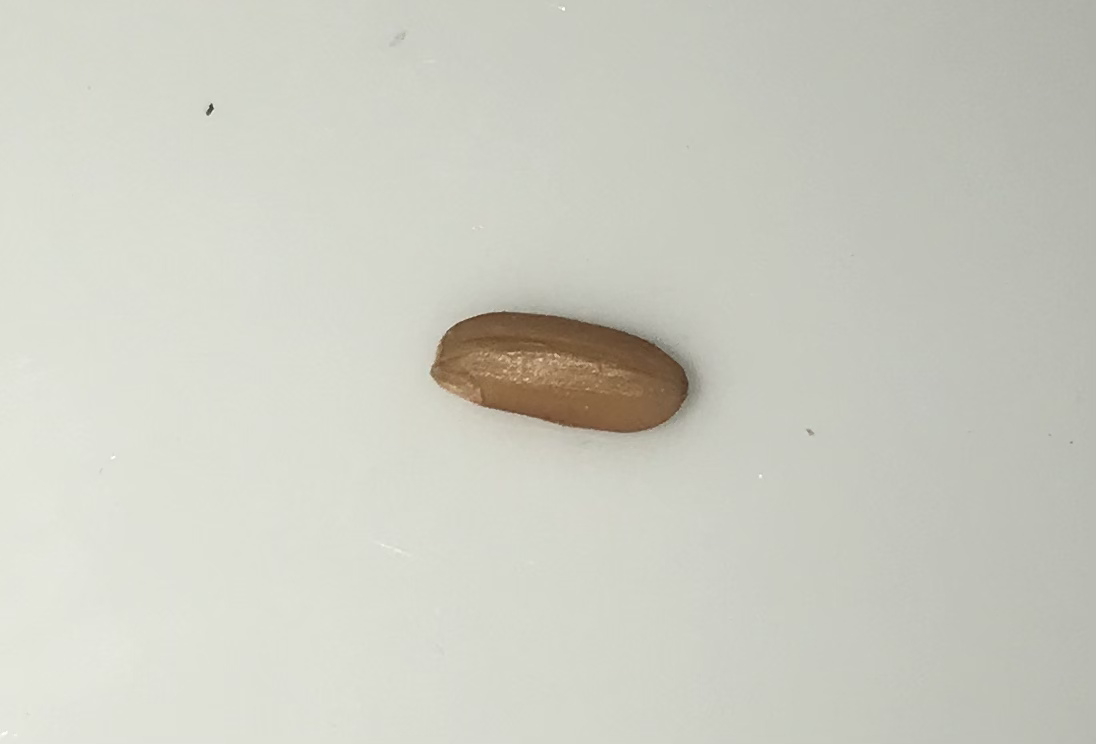Gao Lut Dien Bien: (427, 301, 690, 462)
